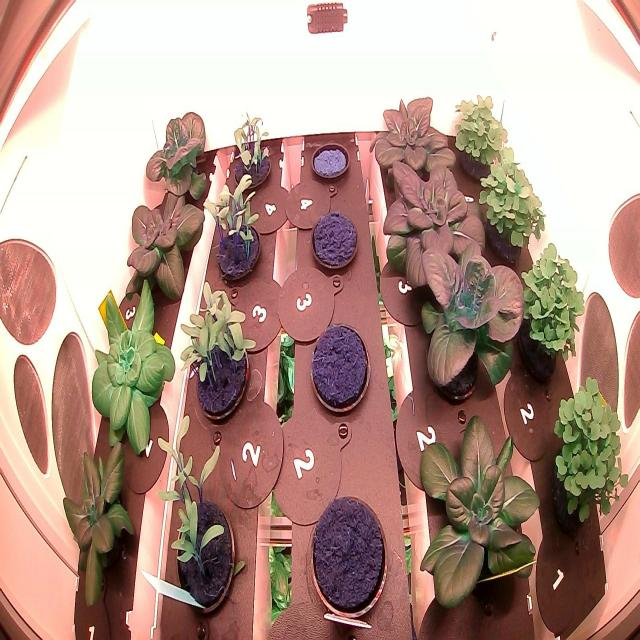pod: (306, 488, 390, 628), (306, 318, 373, 415), (307, 204, 361, 272), (308, 134, 352, 188)
young: (408, 397, 546, 626), (402, 217, 530, 411), (79, 277, 182, 469), (376, 147, 499, 307), (52, 428, 144, 623), (114, 164, 209, 307), (362, 76, 464, 197), (137, 94, 214, 218)
